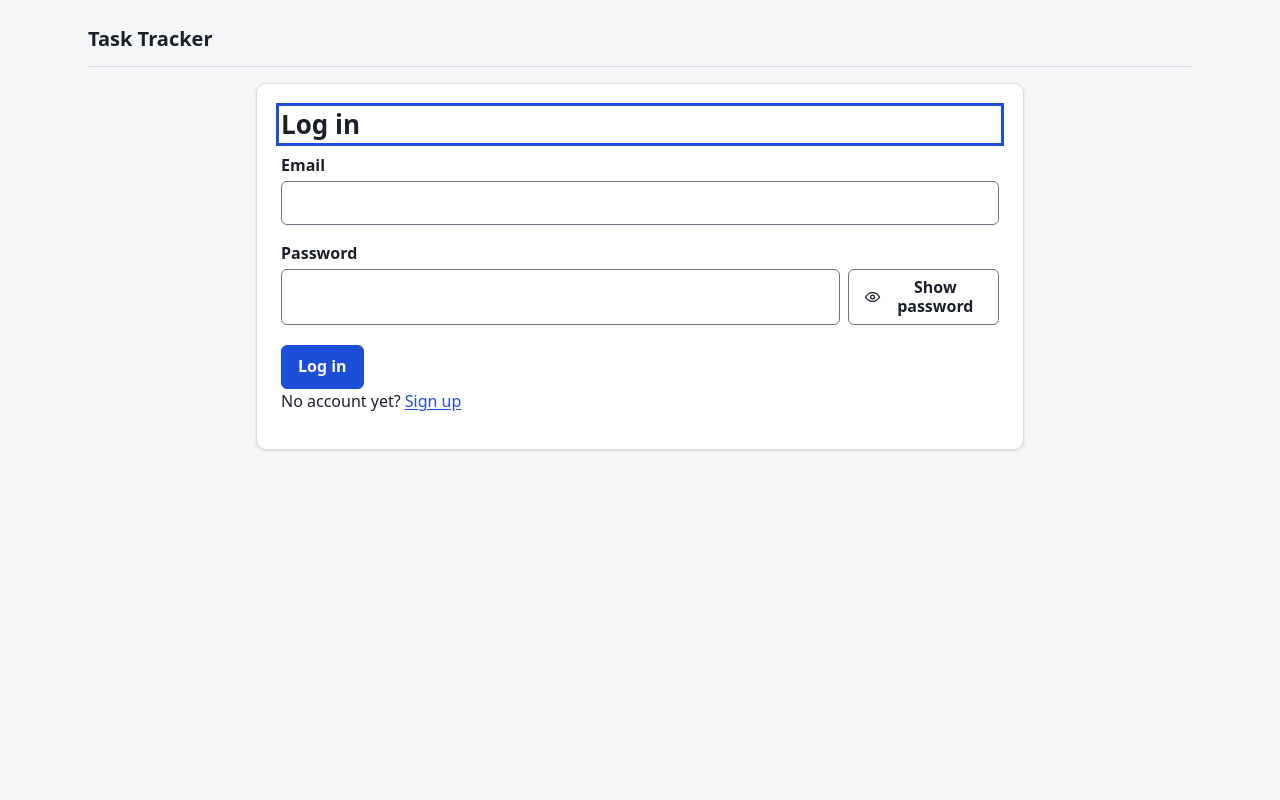
Test: login › saves the token, shows the tasks and sends the Bearer header
Type "alice@example.com" into the field labelled "Email" at [640, 202], box [281,180,999,224]
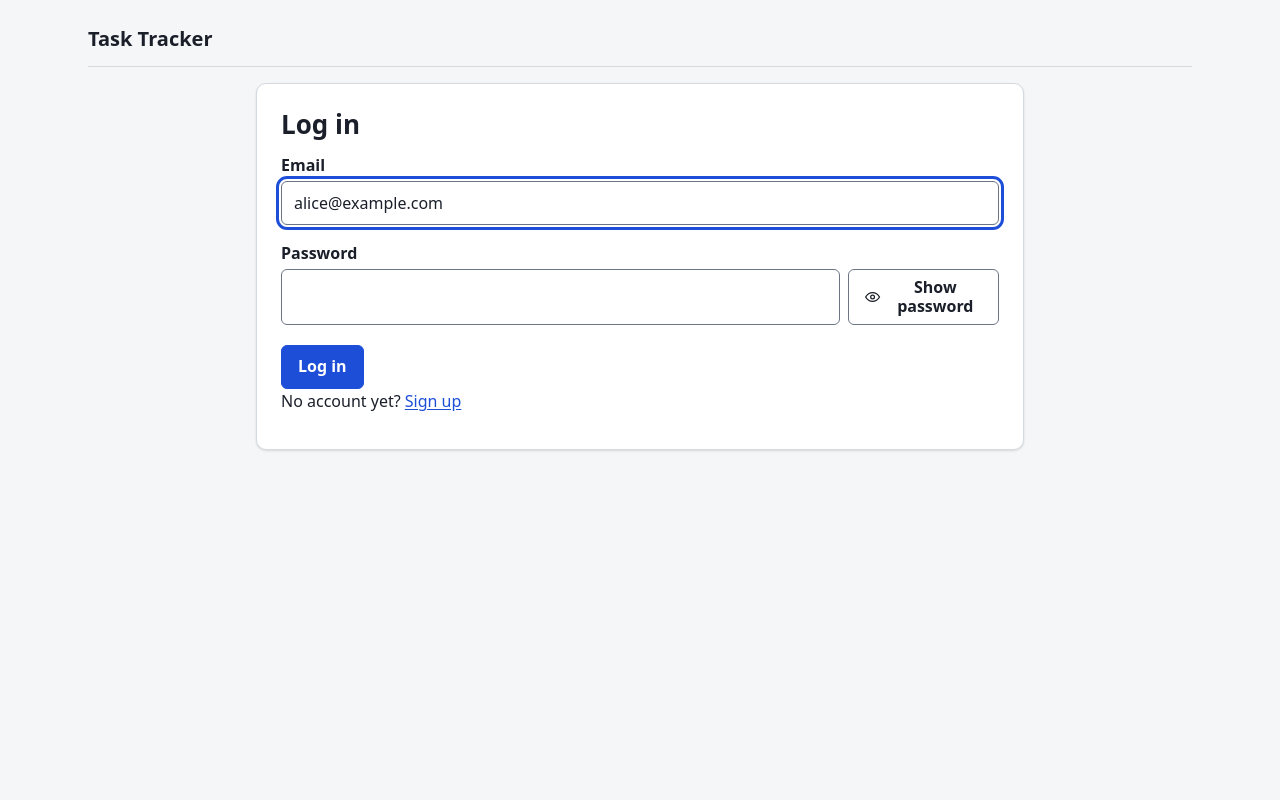
Type "DemoPass123" into the password field labelled "Password" at [561, 297], box [281,268,840,325]
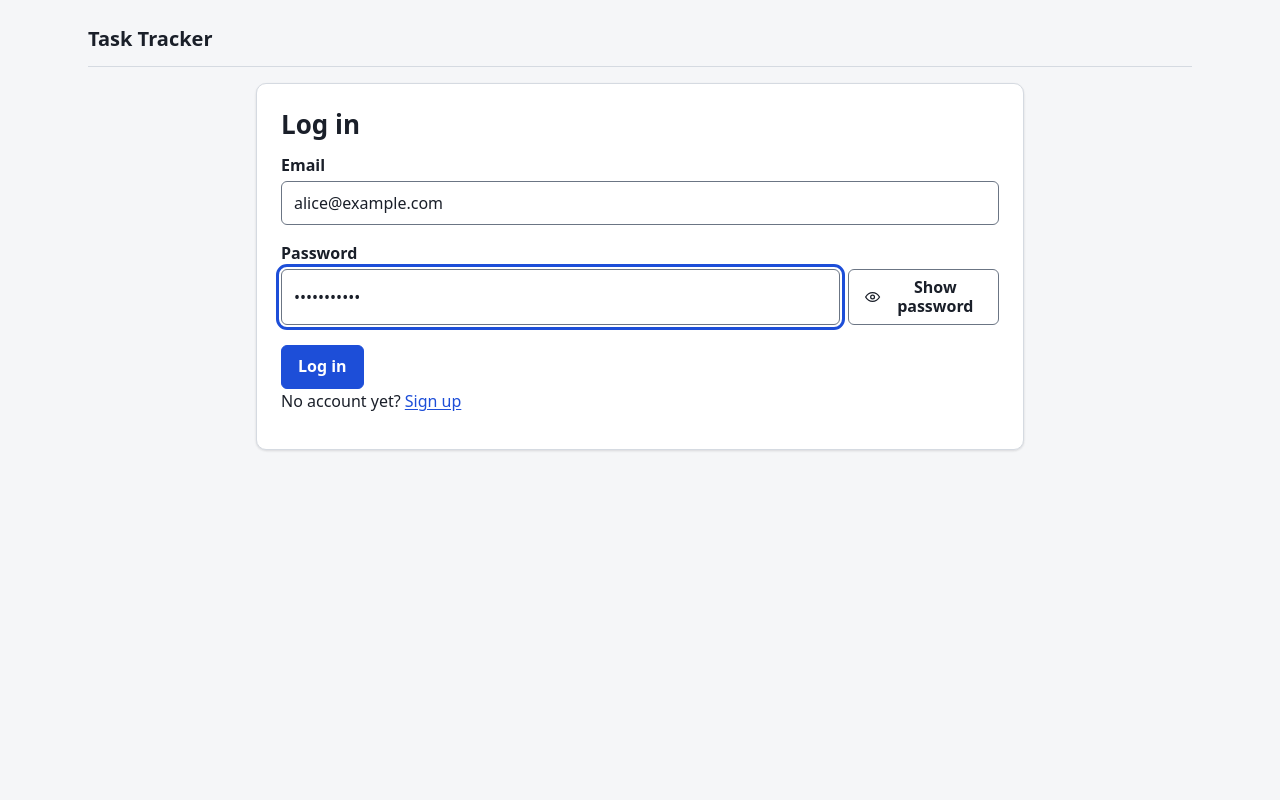
Click the button "Log in" at [322, 367], box [281,345,364,389]
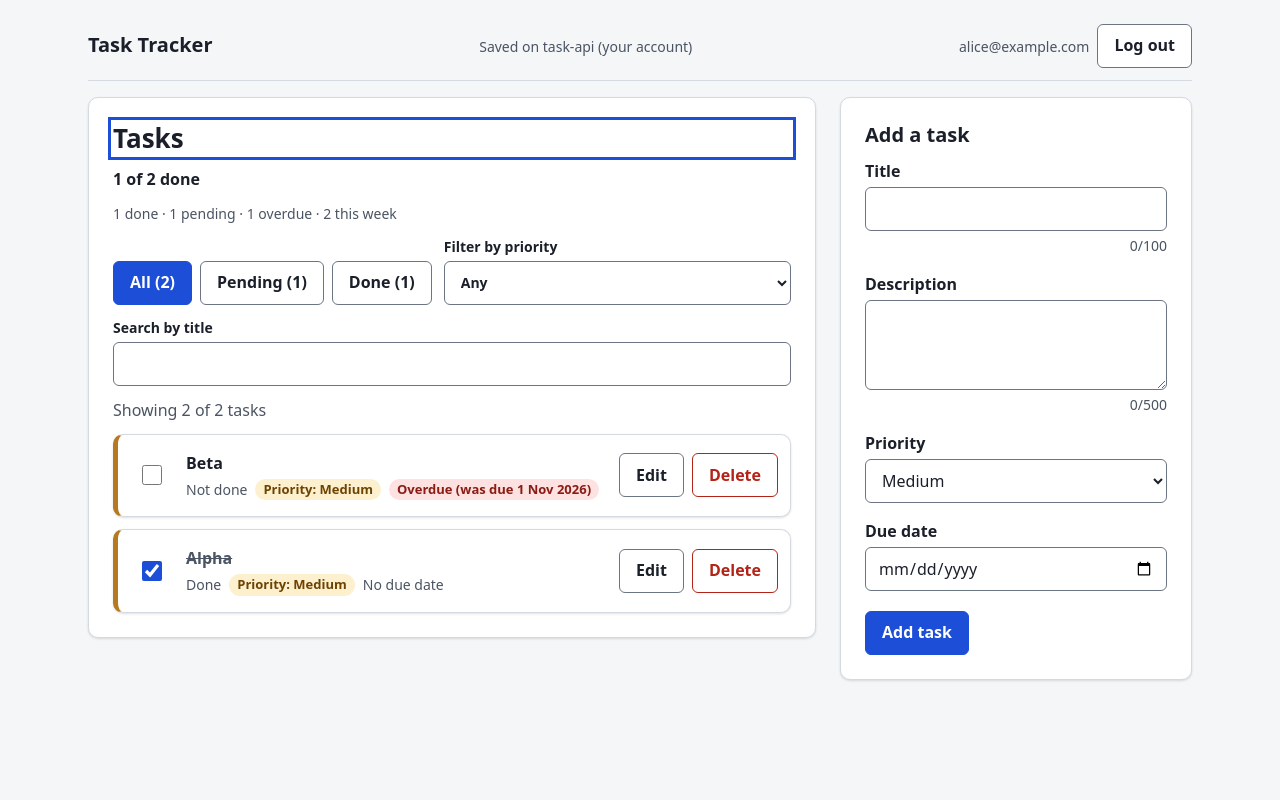
Now the heading "Tasks" is shown, box [113,120,184,156]
Now the text "alice@example.com" is shown, box [959,36,1089,56]
